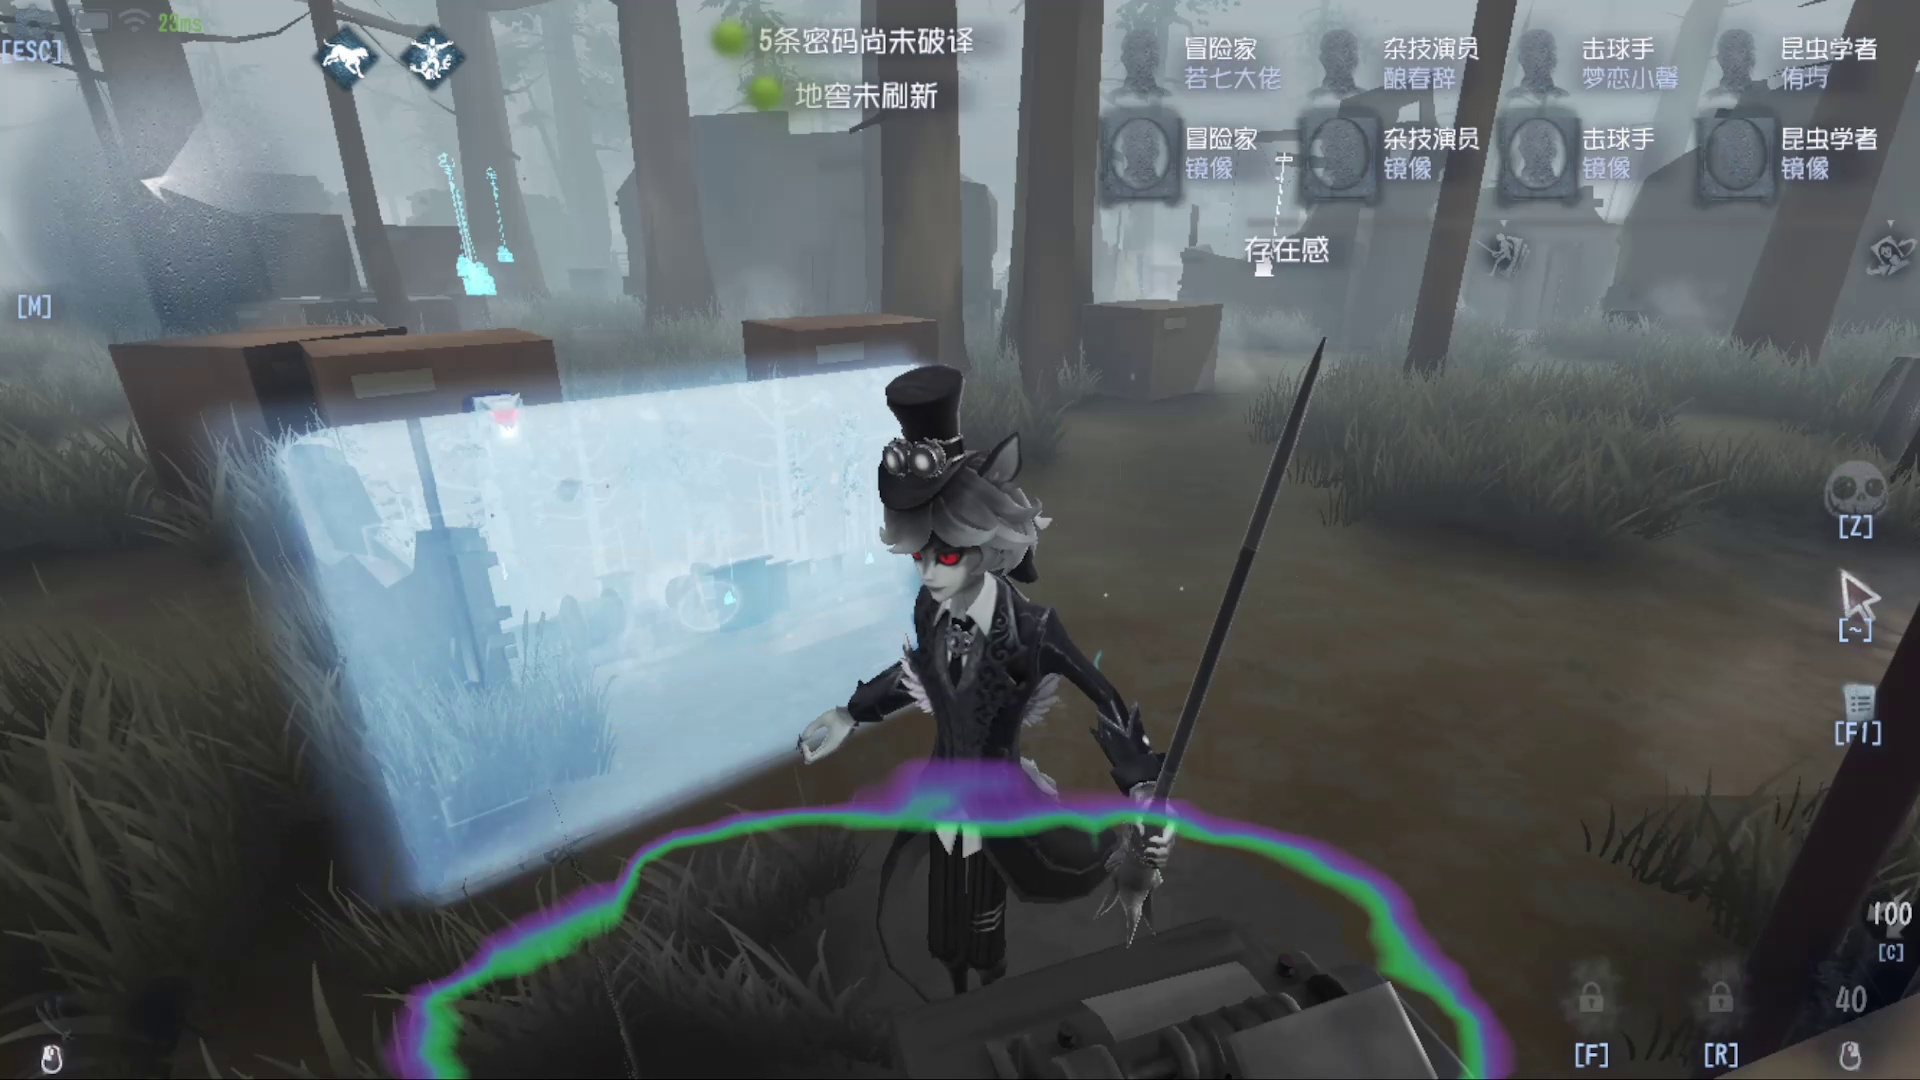密码机: (1196, 141, 1309, 289), (436, 150, 522, 290)
